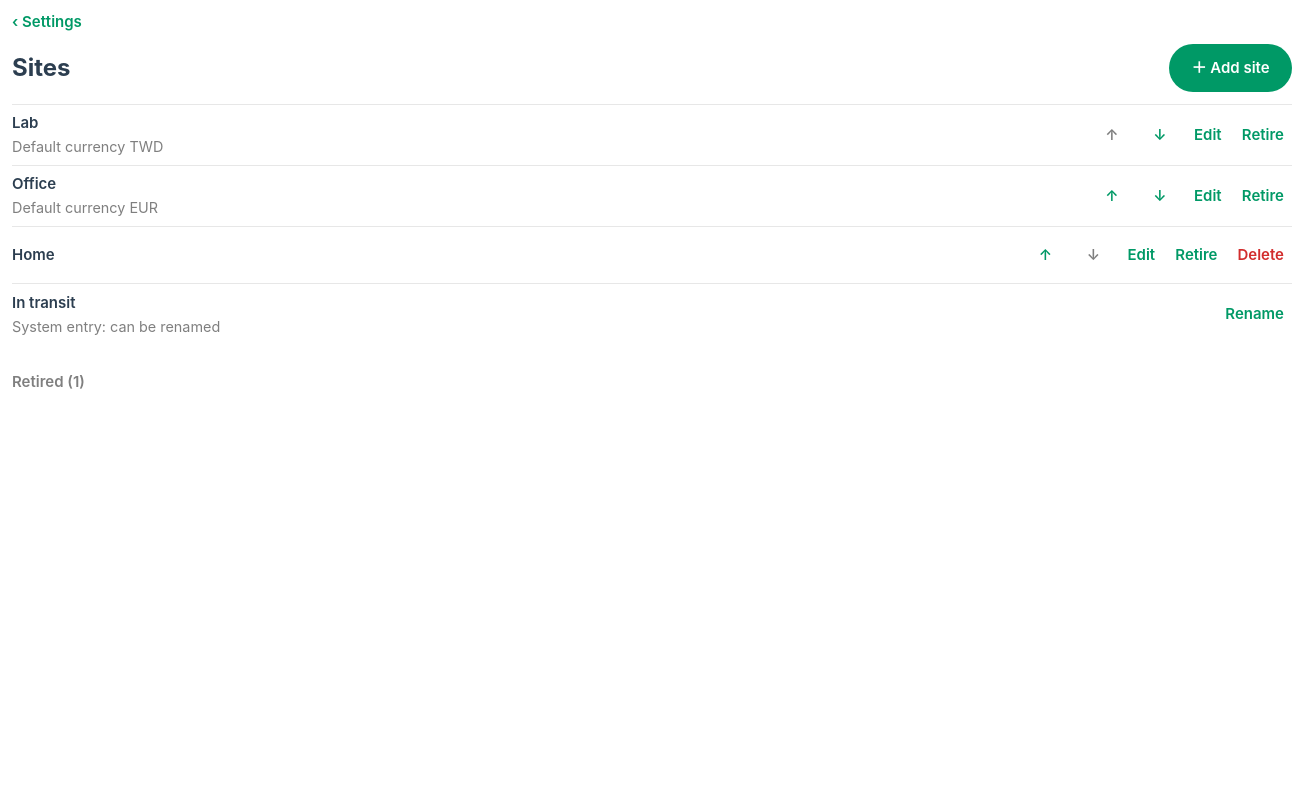
Scenario: Sites (spec §4.10) › duplicate label among active entries is caught before sending
This screenshot has width=1304, height=800.
Click the button with class "add": (1231, 68) [1169,44,1292,92]
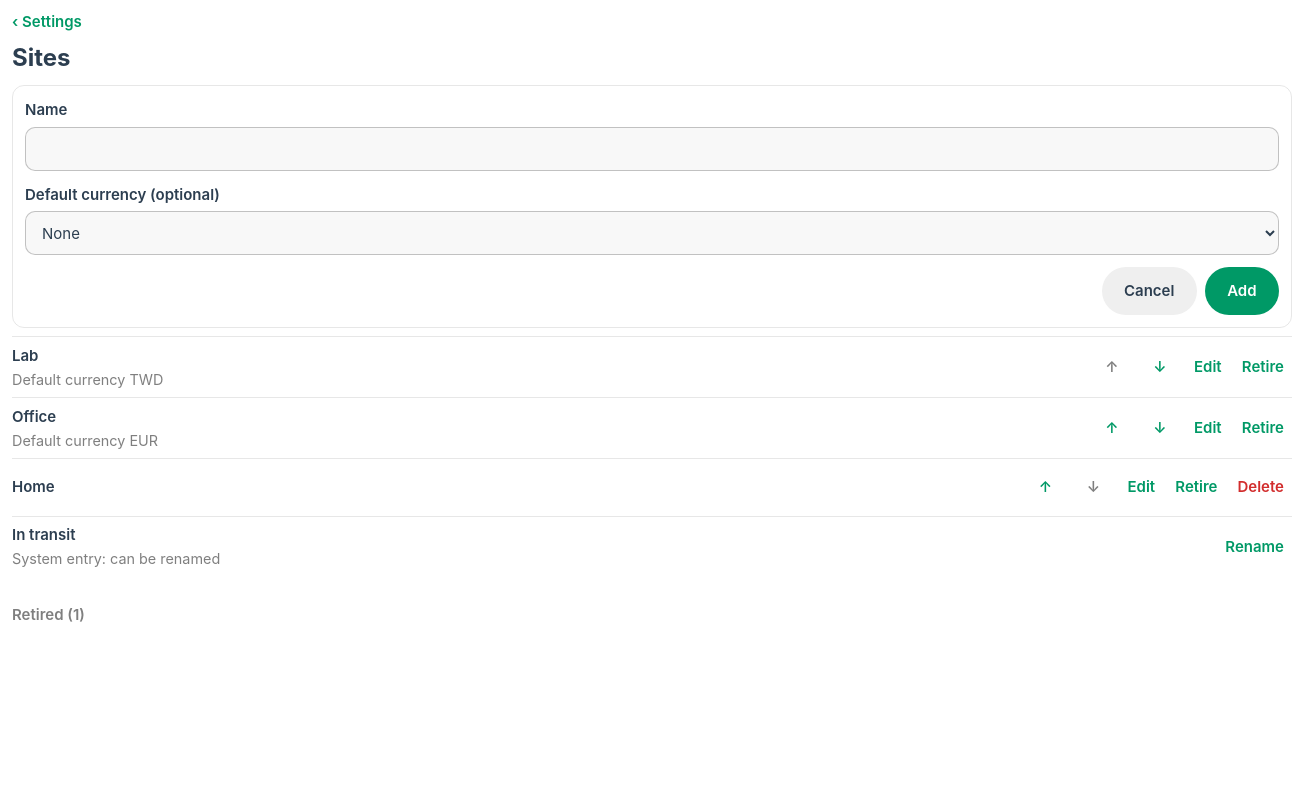
In the field with id "ef-label": (652, 149) [25,127,1279,171], type "lab"
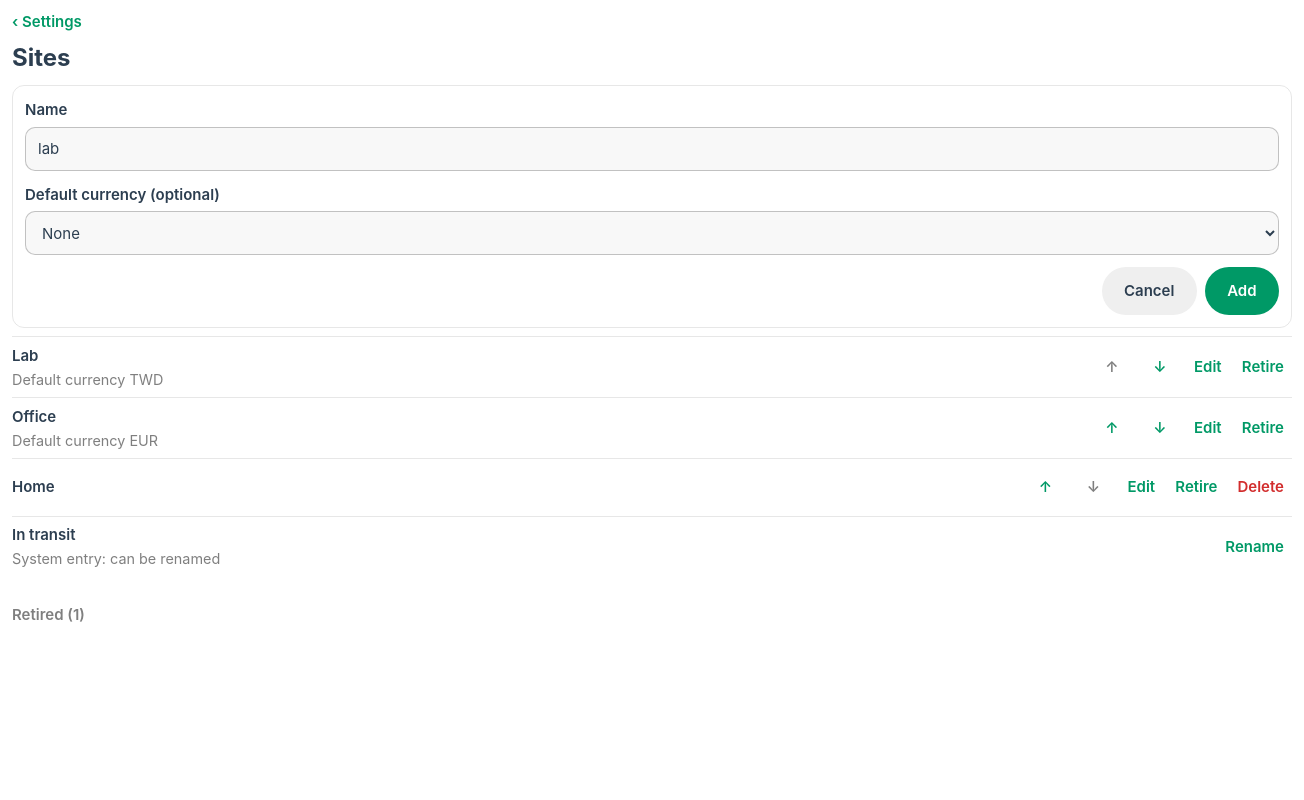
Submit the form with class "entry-form", box [12,85,1292,328]
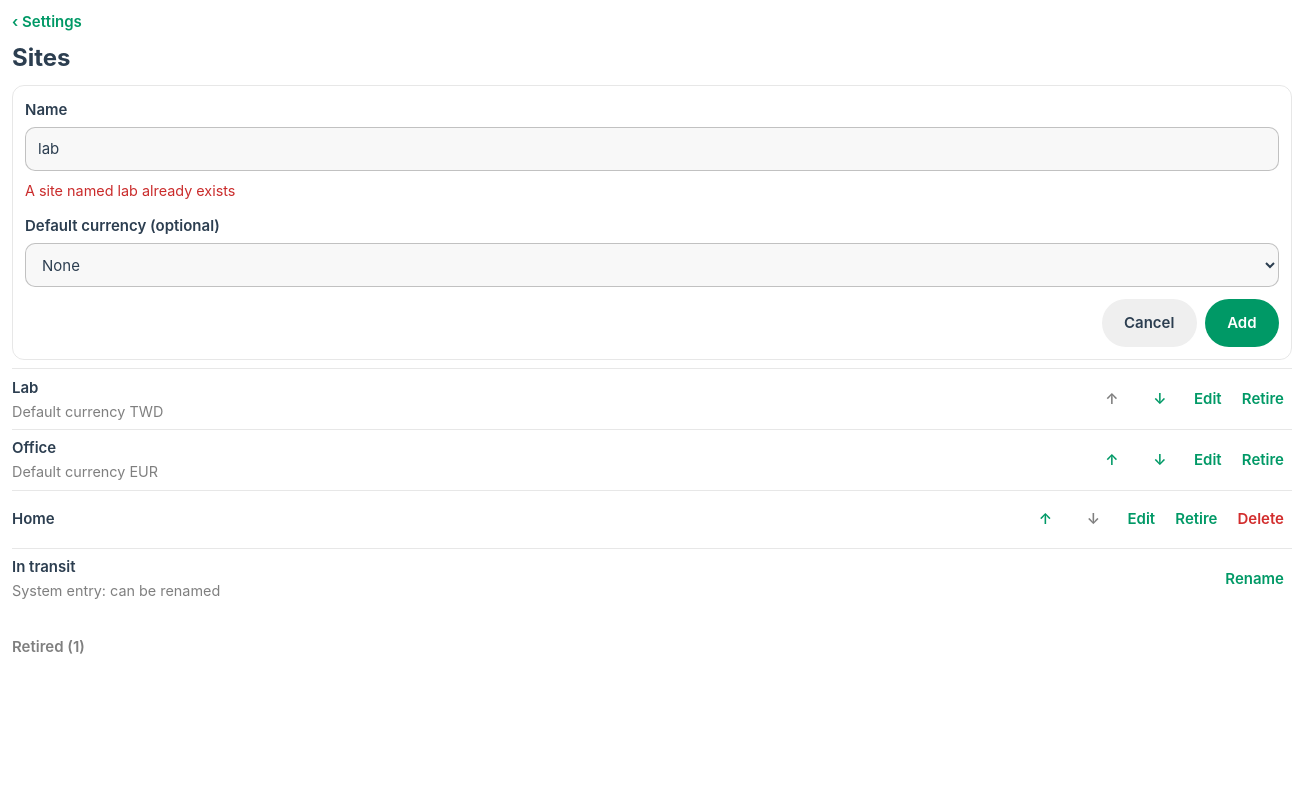
Now the text "A site named lab already exists" is shown, box [25,182,236,199]
